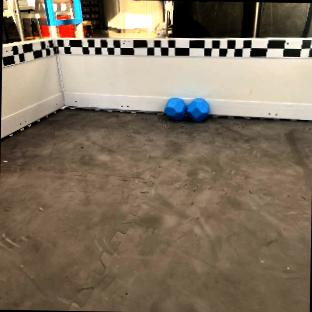V5_BLUE: (164, 96, 209, 121)
